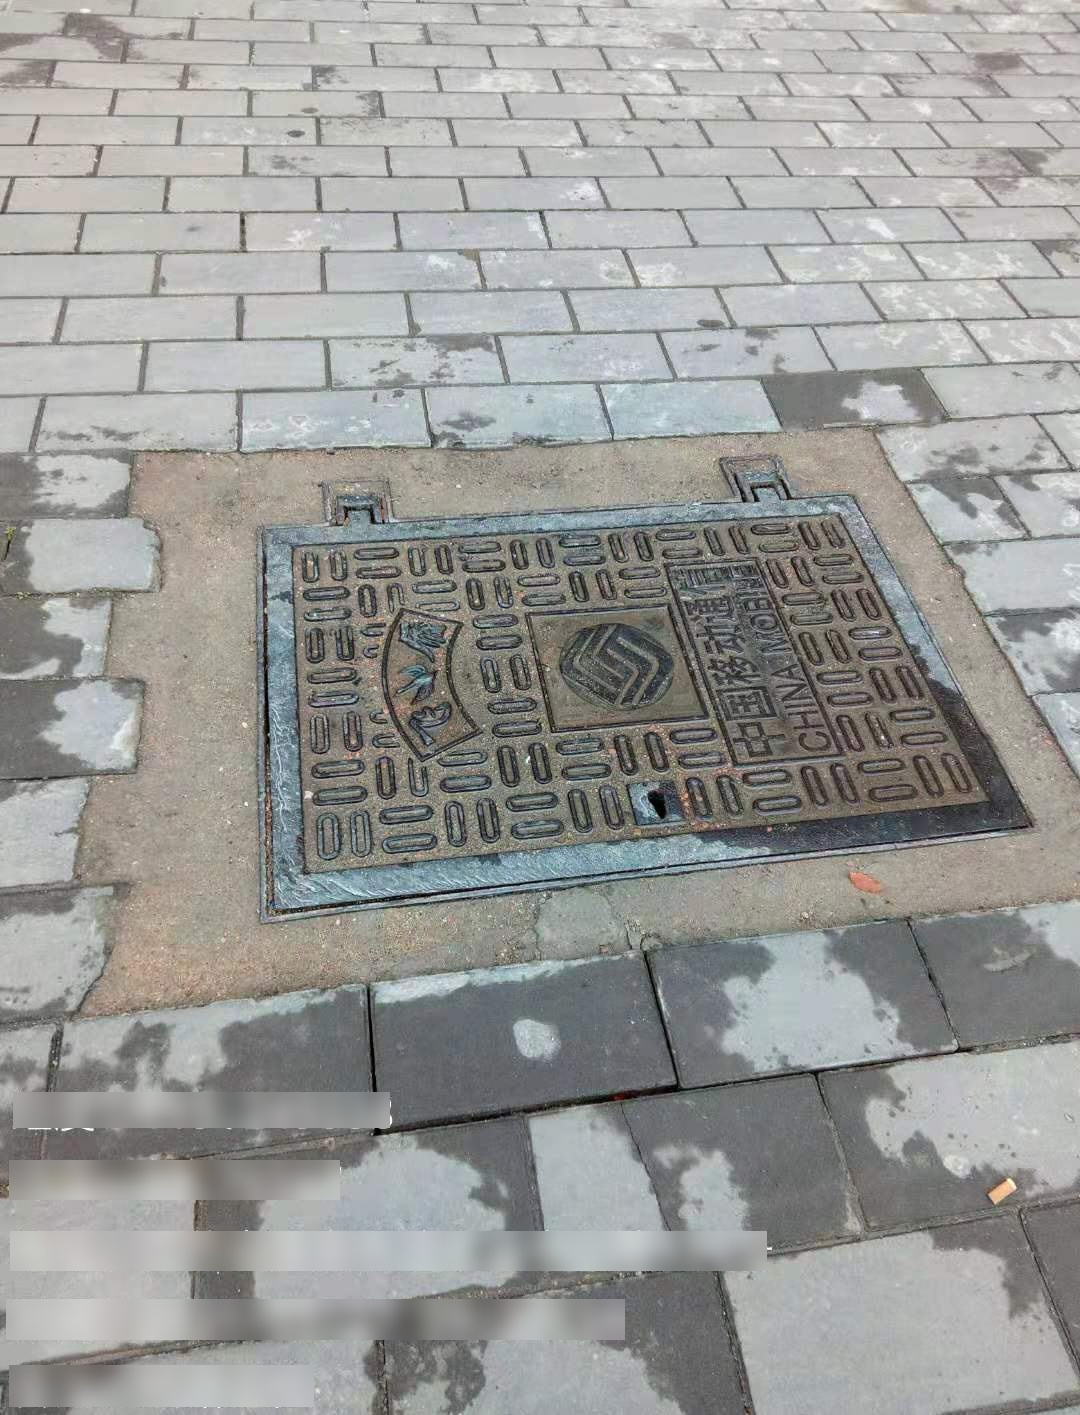well: (247, 472, 1043, 917)
